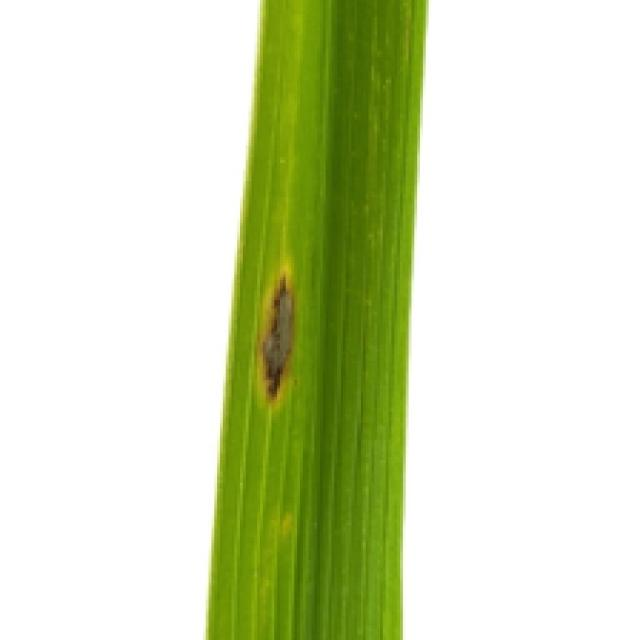Rice___Rice_Blast: (205, 0, 432, 637)
